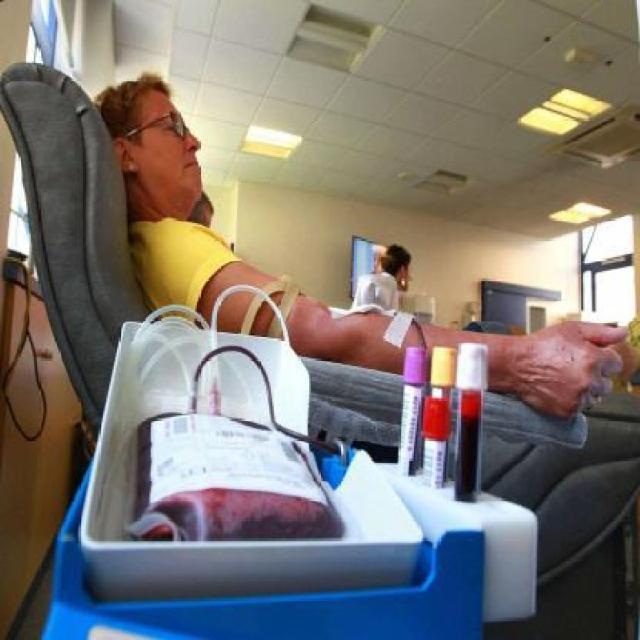B3: (116, 385, 350, 547)
